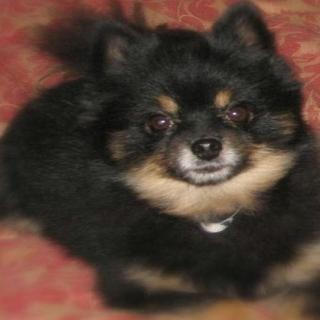dog: (71, 12, 316, 198)
nose: (191, 135, 223, 164)
